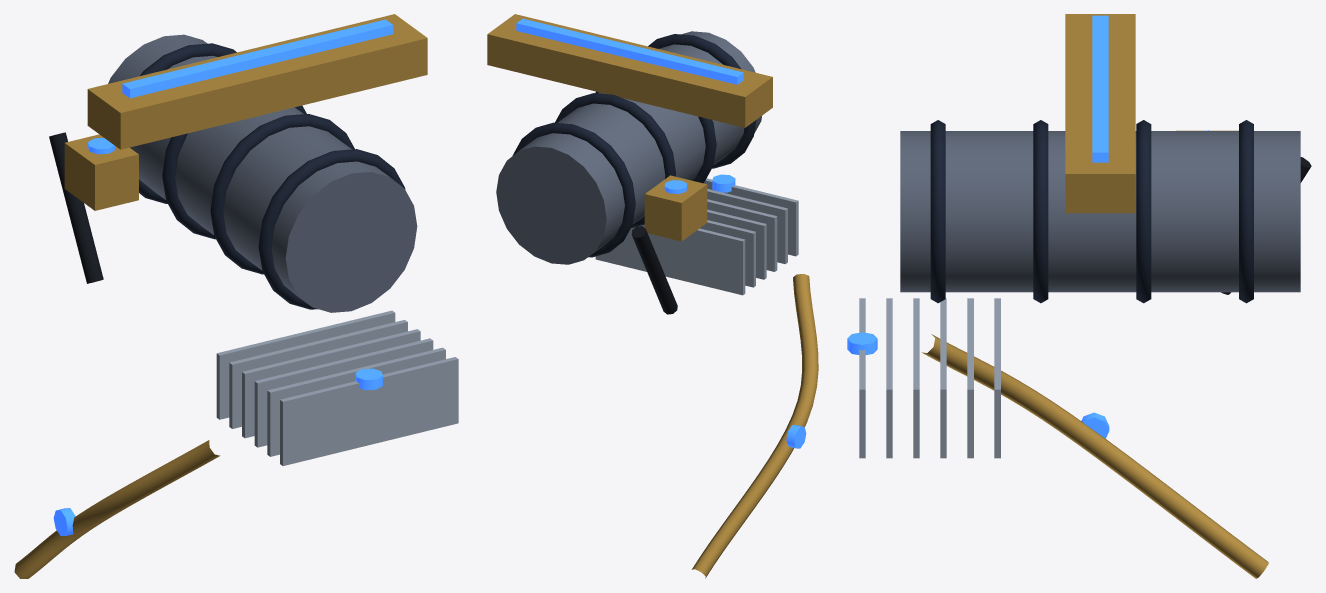
Rendered from tower_lance_rate_s5.glb.
3 views of the same model, side by side, from view 1: azimuth 30°, elevation 25°; view 2: azimuth 150°, elevation 25°; view 3: azimuth 270°, elevation 25° (orthographic). The views are drawn at different scales.
Visible parts, largest first — view 1: lance_capacitor_c, lance_breech_sink, lance_bus_bar_heavy, lance_bus_bar_glow, lance_coolant_line, lance_bus_tap, lance_cap_rib_c0, lance_cap_rib_c1, lance_bus_tap_line, lance_cap_rib_c2, lance_cap_rib_c3; view 2: lance_capacitor_c, lance_bus_bar_heavy, lance_breech_sink, lance_coolant_line, lance_bus_bar_glow, lance_bus_tap, lance_cap_rib_c3, lance_cap_rib_c2, lance_cap_rib_c0, lance_bus_tap_line, lance_cap_rib_c1; view 3: lance_capacitor_c, lance_bus_bar_heavy, lance_coolant_line, lance_breech_sink, lance_cap_rib_c0, lance_cap_rib_c1, lance_cap_rib_c2, lance_cap_rib_c3, lance_bus_bar_glow, lance_up_rate_l5_stud.
Boxes of the visible parts, box(x1,y1,x2,y2) form: lance_capacitor_c: box(108, 34, 417, 312); lance_breech_sink: box(216, 310, 458, 465); lance_bus_bar_heavy: box(87, 14, 427, 149); lance_bus_bar_glow: box(122, 19, 393, 98); lance_coolant_line: box(14, 440, 220, 578); lance_bus_tap: box(64, 134, 138, 210); lance_cap_rib_c0: box(258, 149, 405, 309); lance_cap_rib_c1: box(210, 114, 354, 274); lance_bus_tap_line: box(49, 132, 103, 283); lance_cap_rib_c2: box(162, 105, 306, 239); lance_cap_rib_c3: box(139, 43, 236, 203); lance_capacitor_c: box(496, 31, 761, 264); lance_bus_bar_heavy: box(487, 14, 772, 127); lance_breech_sink: box(595, 178, 798, 295); lance_coolant_line: box(692, 274, 818, 578); lance_bus_bar_glow: box(516, 18, 743, 84); lance_bus_tap: box(644, 175, 707, 241); lance_cap_rib_c3: box(512, 122, 635, 257); lance_cap_rib_c2: box(555, 93, 675, 227); lance_cap_rib_c0: box(648, 34, 756, 168); lance_bus_tap_line: box(631, 226, 677, 314); lance_cap_rib_c1: box(595, 91, 716, 183); lance_capacitor_c: box(900, 131, 1300, 292); lance_bus_bar_heavy: box(1065, 14, 1135, 213); lance_coolant_line: box(921, 334, 1268, 578); lance_breech_sink: box(859, 298, 1000, 458); lance_cap_rib_c0: box(930, 120, 945, 303); lance_cap_rib_c1: box(1033, 120, 1048, 303); lance_cap_rib_c2: box(1136, 120, 1151, 303); lance_cap_rib_c3: box(1239, 120, 1253, 303); lance_bus_bar_glow: box(1092, 15, 1108, 162); lance_up_rate_l5_stud: box(847, 332, 877, 354).
Size of the model in its own units: 0.8056 by 1.18 by 0.8586.
